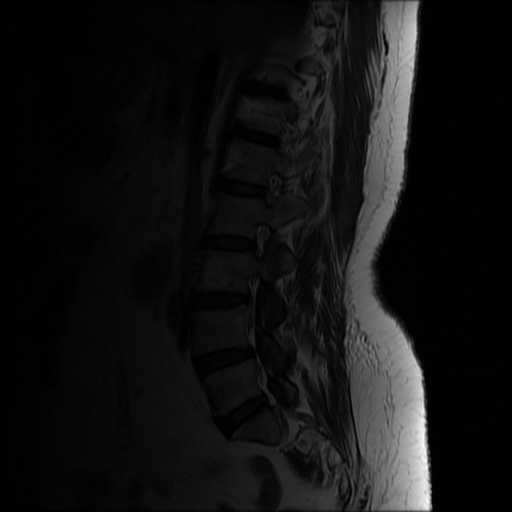RFS0: (249, 162, 287, 212), (238, 218, 277, 266)
